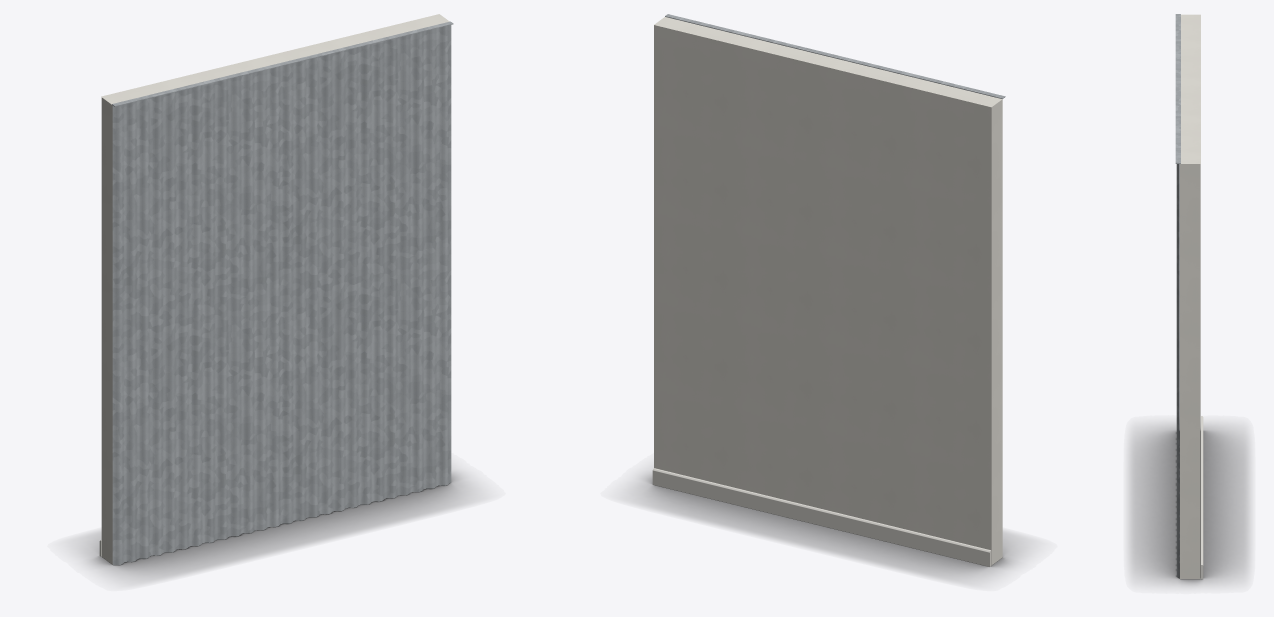
File: wall_corrugated.glb
3 views of the same model, side by side, from view 1: azimuth 30°, elevation 25°; view 2: azimuth 150°, elevation 25°; view 3: azimuth 270°, elevation 25° (orthographic). The views are drawn at different scales.
Visible parts, largest first — view 1: wall_corrugated_LOD0, wall_corrugated_Shadow; view 2: wall_corrugated_LOD0, wall_corrugated_Shadow; view 3: wall_corrugated_LOD0, wall_corrugated_Shadow.
Boxes of the visible parts, bbox=[...] form: wall_corrugated_LOD0: bbox=[99, 14, 453, 565]; wall_corrugated_Shadow: bbox=[81, 471, 471, 580]; wall_corrugated_LOD0: bbox=[652, 14, 1005, 566]; wall_corrugated_Shadow: bbox=[633, 472, 1024, 580]; wall_corrugated_LOD0: bbox=[1175, 14, 1203, 579]; wall_corrugated_Shadow: bbox=[1130, 424, 1248, 585].
Size of what is drawn, in the model's own units: 2.64 by 2.6 by 0.798.
Materials: 4 (3 with a texture image).
